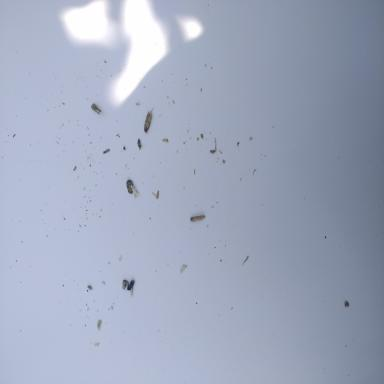pbw: (144, 106, 154, 134), (190, 215, 205, 222)
